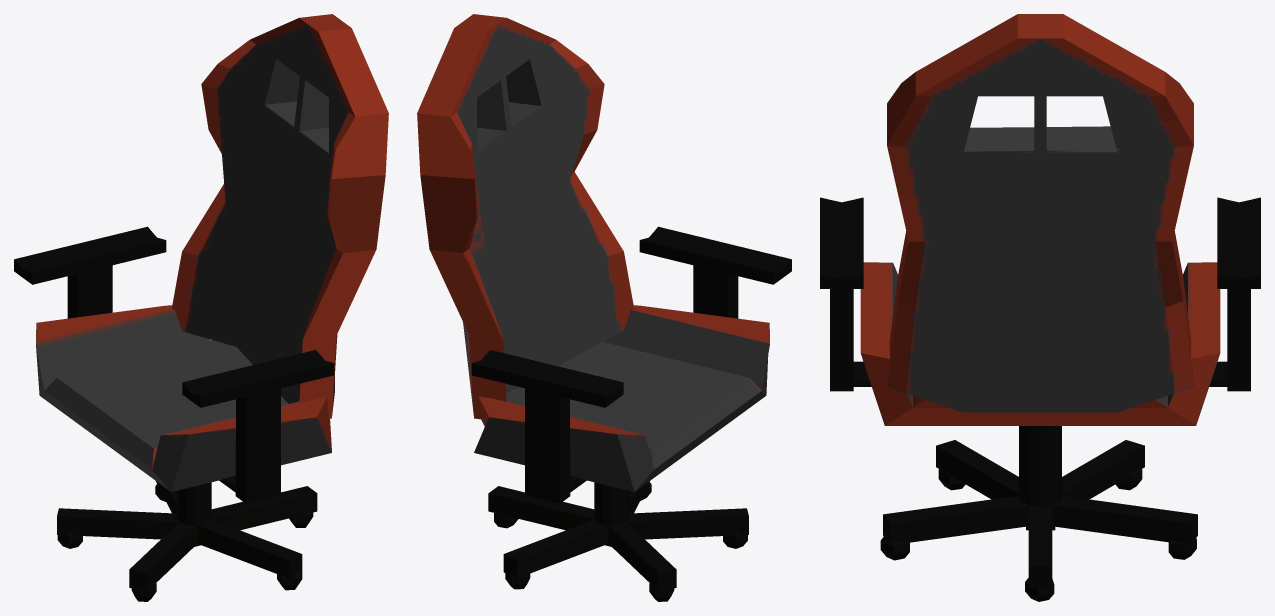
File: chearRgb.fbx
3 views of the same model, side by side, from view 1: azimuth 30°, elevation 25°; view 2: azimuth 150°, elevation 25°; view 3: azimuth 270°, elevation 25° (orthographic). The views are drawn at different scales.
Visible parts, largest first — view 1: Chair; view 2: Chair; view 3: Chair.
Part boxes in pixels (bbox=[...]): Chair: bbox=[14, 14, 388, 601]; Chair: bbox=[417, 14, 791, 601]; Chair: bbox=[820, 14, 1260, 601].
Bounding box in the file's own units: 2.21 × 2.87 × 4.25.
